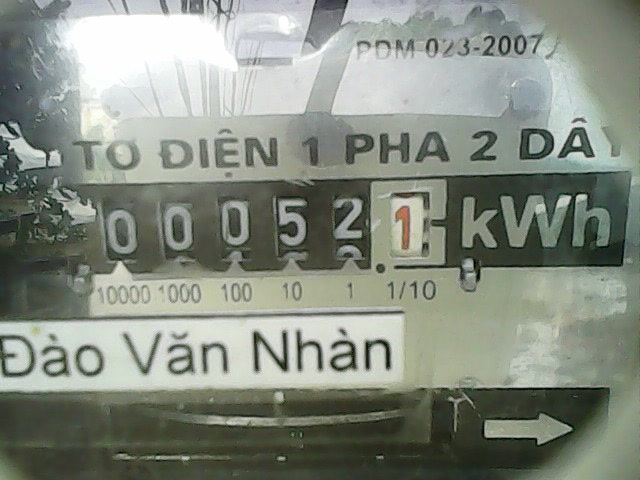phy_plate: (81, 177, 462, 277)
